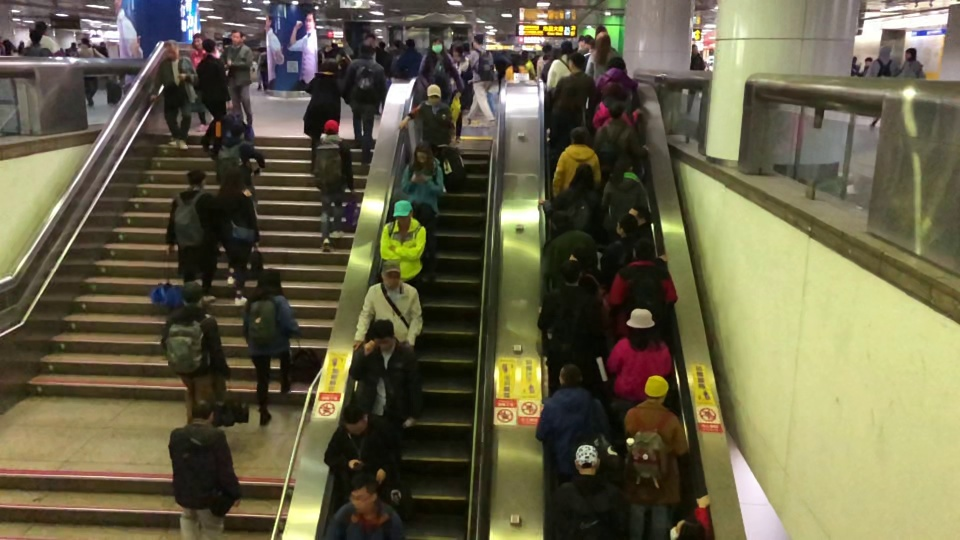person_head: (347, 472, 379, 514), (625, 307, 658, 346), (573, 443, 601, 476), (341, 401, 368, 433), (670, 516, 706, 539), (643, 374, 671, 403), (371, 318, 394, 349), (379, 259, 402, 289), (189, 397, 215, 423), (557, 360, 583, 386), (549, 211, 575, 236), (557, 259, 582, 284), (570, 163, 594, 189), (558, 83, 581, 109), (180, 280, 203, 305), (392, 198, 414, 224), (633, 238, 655, 263), (221, 166, 244, 189), (614, 214, 637, 237), (626, 206, 649, 228), (256, 267, 280, 287), (185, 167, 206, 188), (605, 81, 627, 101), (413, 142, 432, 165), (569, 126, 589, 146), (615, 151, 633, 173), (426, 82, 441, 107), (606, 100, 625, 118), (568, 52, 585, 72), (607, 55, 627, 71), (568, 247, 588, 262), (323, 118, 339, 136), (230, 119, 245, 138), (191, 32, 207, 49), (595, 32, 610, 50), (430, 34, 444, 53), (321, 58, 337, 74), (164, 40, 178, 58), (33, 19, 48, 35), (28, 29, 42, 46), (202, 38, 215, 56), (879, 44, 894, 59), (541, 43, 554, 58), (903, 46, 916, 61), (229, 30, 242, 44), (452, 41, 463, 57), (559, 39, 569, 56), (3, 39, 13, 54), (511, 52, 521, 67), (360, 43, 372, 55), (473, 35, 483, 48), (367, 34, 375, 47), (80, 36, 91, 45), (391, 40, 400, 50), (407, 38, 415, 49), (583, 35, 589, 48), (863, 57, 871, 66), (692, 44, 698, 53), (259, 46, 266, 52), (852, 55, 855, 64), (70, 41, 74, 47)
person_vbox: (624, 372, 690, 540), (166, 396, 242, 540), (159, 280, 232, 429), (604, 307, 673, 457), (583, 236, 679, 340), (241, 267, 302, 425), (534, 359, 611, 483), (348, 318, 427, 430), (160, 166, 221, 303), (535, 259, 604, 371), (323, 401, 401, 490), (555, 441, 624, 540), (214, 165, 260, 308), (399, 82, 456, 195), (400, 141, 444, 285), (353, 261, 424, 349), (311, 118, 356, 254), (342, 43, 388, 167), (149, 39, 198, 153), (326, 471, 404, 540), (536, 163, 606, 235), (598, 214, 671, 282), (301, 58, 342, 172), (196, 38, 232, 158), (379, 199, 427, 288), (542, 210, 598, 285), (592, 99, 650, 170), (221, 29, 256, 137), (552, 125, 601, 199), (213, 117, 266, 184), (418, 34, 464, 106), (603, 151, 647, 225), (550, 83, 591, 157), (189, 32, 218, 133), (465, 35, 496, 128), (592, 81, 641, 133), (451, 41, 473, 144), (550, 53, 595, 101), (77, 37, 108, 105), (366, 36, 390, 118), (596, 53, 639, 97), (584, 31, 620, 83), (546, 37, 575, 86), (27, 20, 63, 56), (866, 44, 898, 76), (397, 38, 422, 76), (898, 47, 925, 79), (22, 28, 51, 56), (536, 42, 556, 80), (504, 52, 527, 81), (257, 46, 269, 90), (389, 39, 404, 73), (689, 44, 706, 70), (64, 41, 77, 57), (851, 55, 859, 77)
